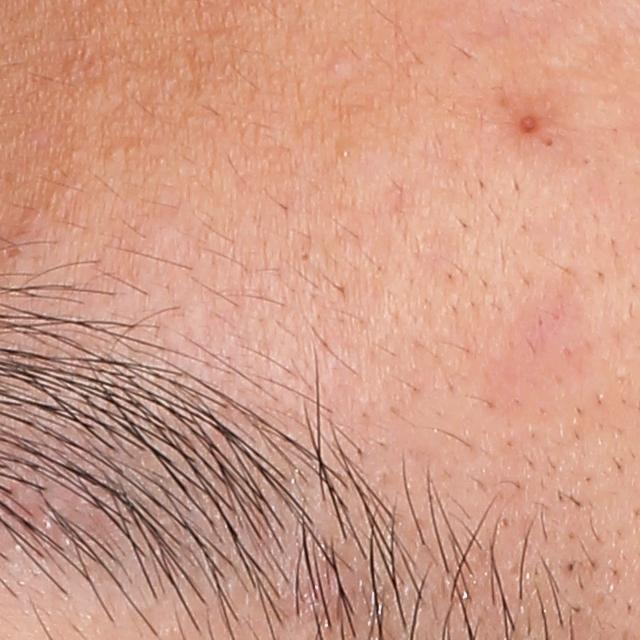comedo: (519, 110, 542, 135), (104, 143, 126, 161), (338, 144, 354, 159), (297, 249, 312, 264)
